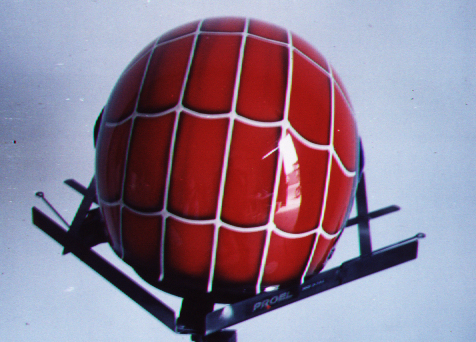helmet: (111, 31, 357, 275)
